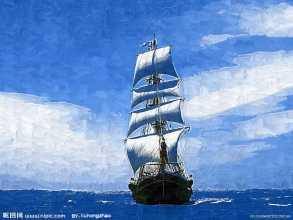fanchuan: (122, 34, 197, 207)
